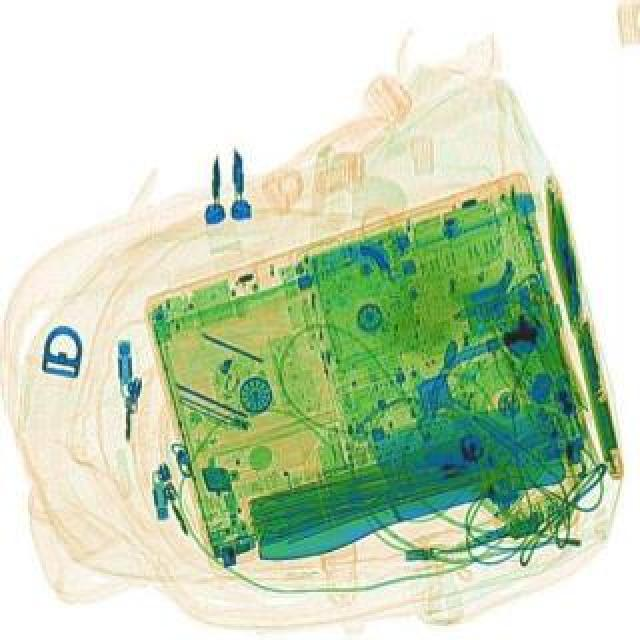knife: (232, 388, 568, 564)
